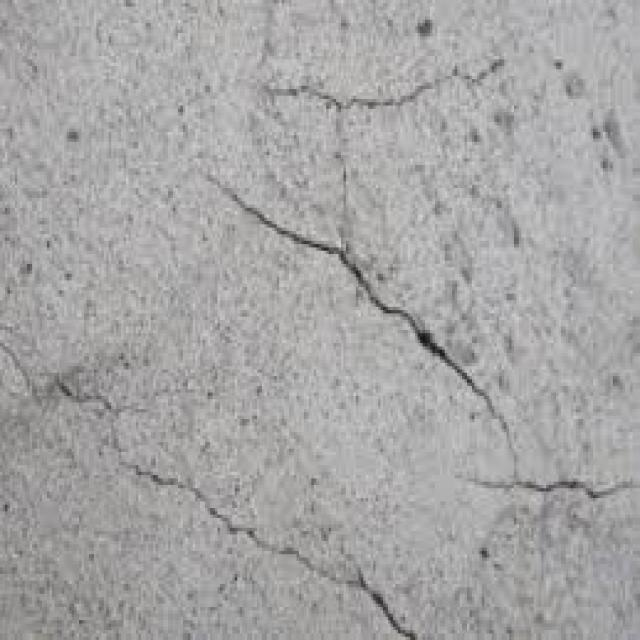crack: (236, 197, 504, 426), (207, 508, 415, 639)
